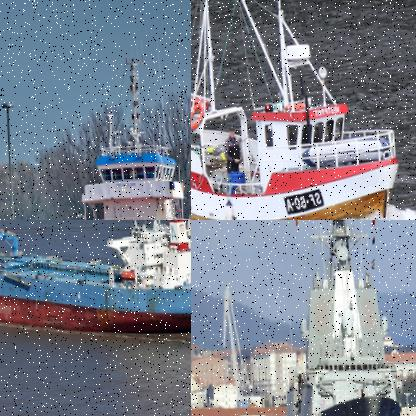Fishing Boat: (191, 0, 403, 219)
Merchant Ship: (0, 49, 190, 219), (0, 220, 190, 353)
Military Ship: (262, 220, 406, 415)
